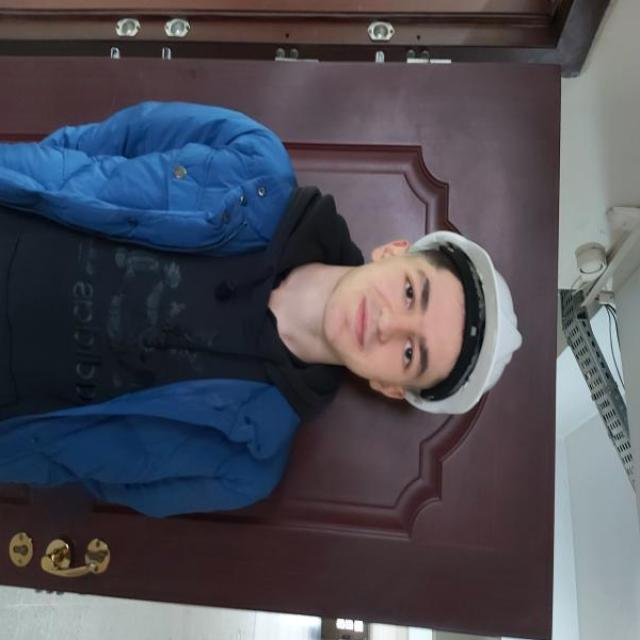helmet: (403, 228, 523, 415)
